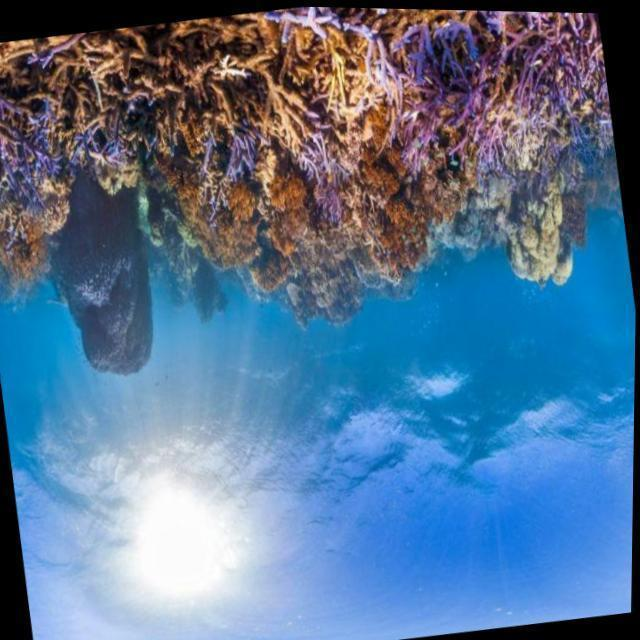Dead Coral: (121, 11, 255, 154), (40, 34, 109, 137)
